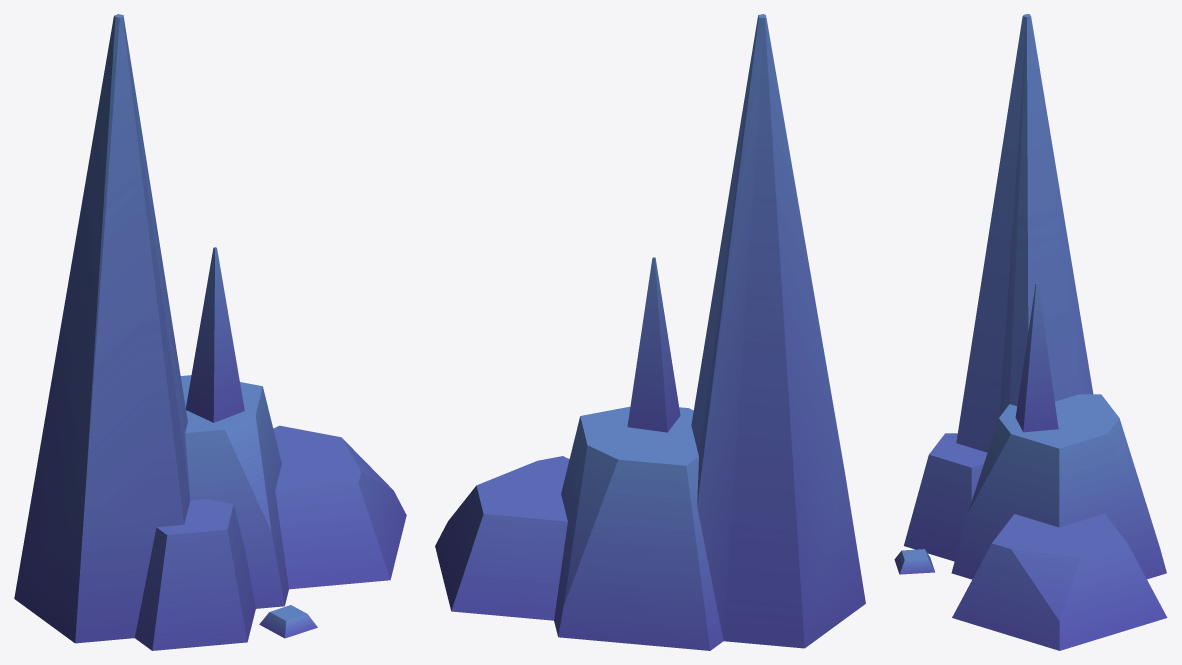
The model's file is pedra pontuda 3 azul.glb.
3 views of the same model, side by side, from view 1: azimuth 30°, elevation 25°; view 2: azimuth 150°, elevation 25°; view 3: azimuth 270°, elevation 25° (orthographic). The views are drawn at different scales.
Visible parts, largest first — view 1: rock-c; view 2: rock-c; view 3: rock-c.
Part boxes in pixels (x1=…): rock-c: x1=14, y1=14, x2=406, y2=650; rock-c: x1=435, y1=14, x2=865, y2=650; rock-c: x1=894, y1=14, x2=1167, y2=650.
Bounding box in the file's own units: 0.7837 × 1.16 × 0.5659.
Materials: 1 (1 with a texture image).
